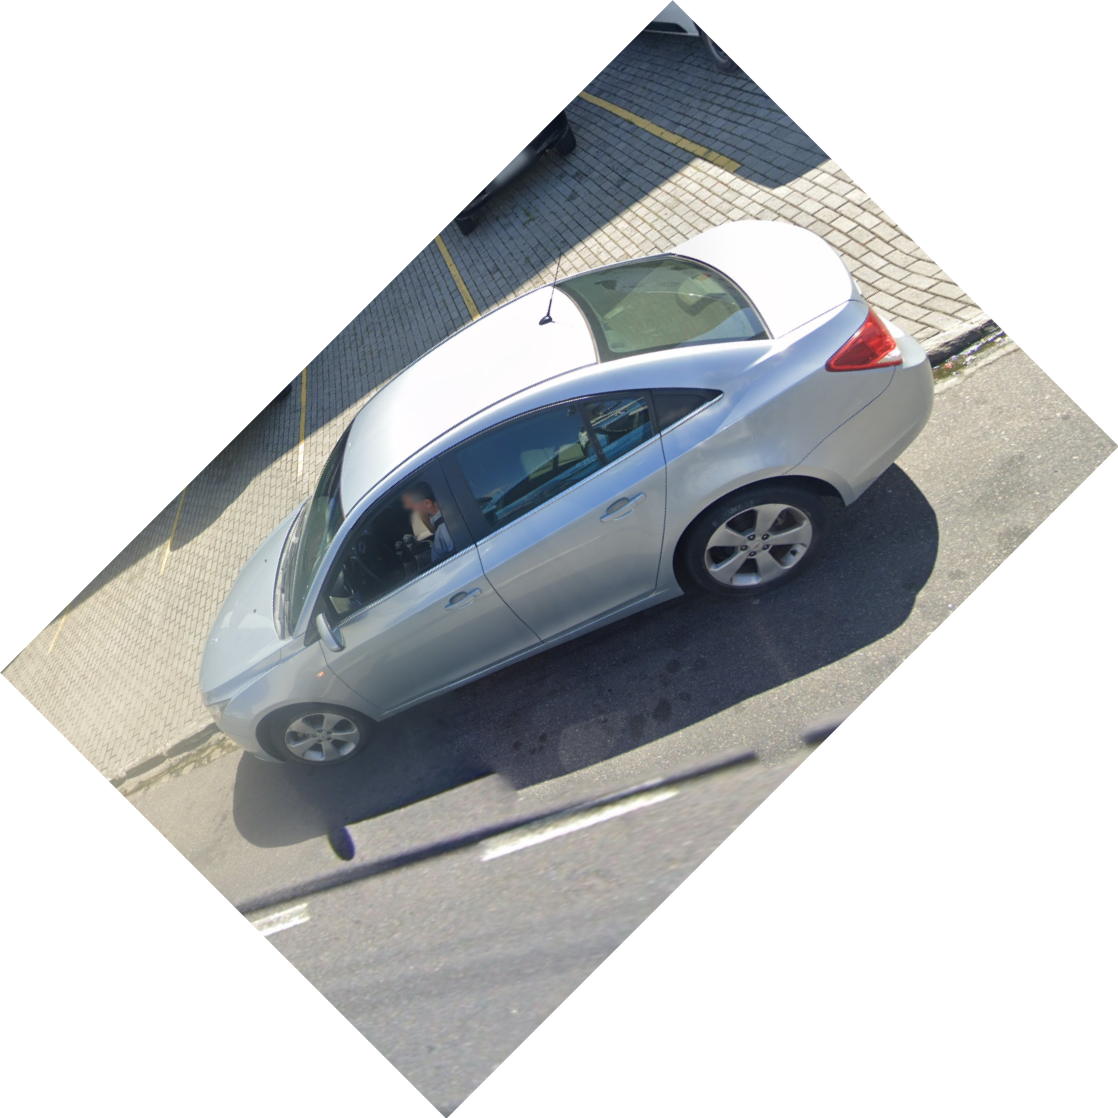car: (195, 212, 937, 777)
